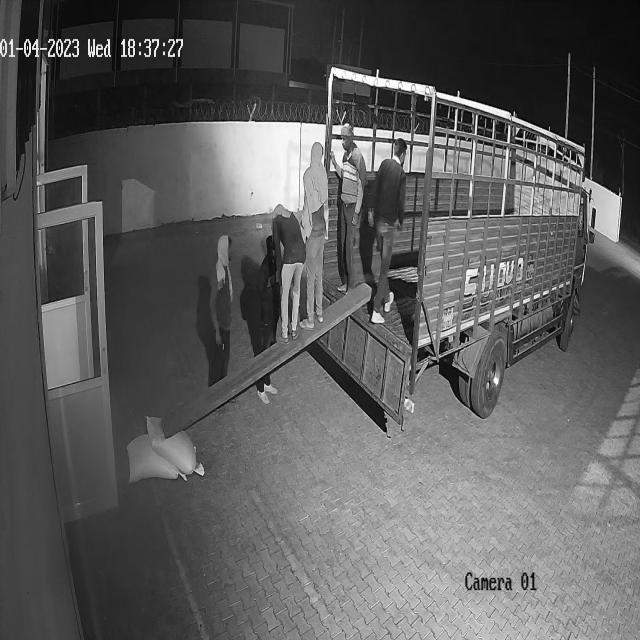sack: (145, 414, 204, 477), (126, 432, 185, 480)
